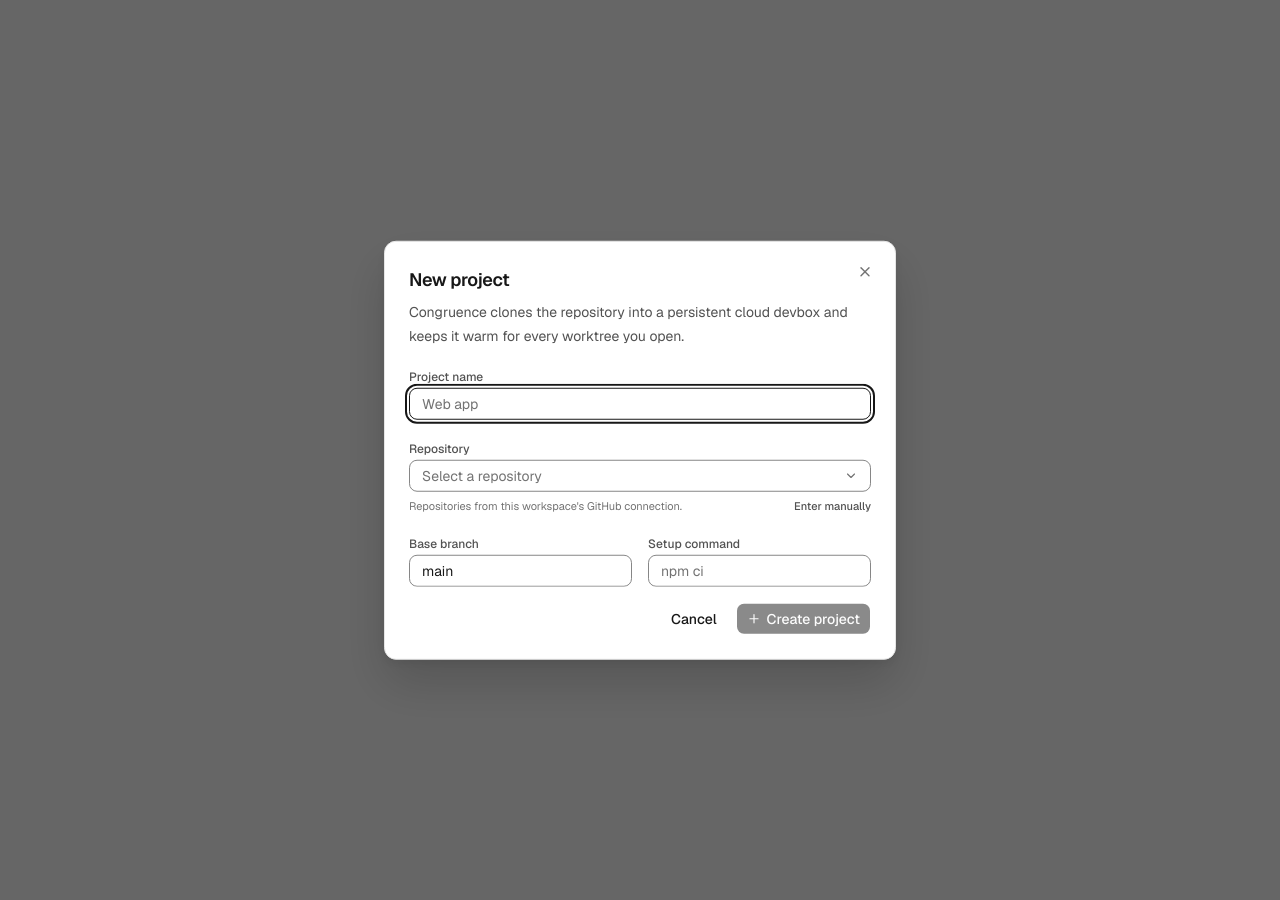
New project dialog › lists the connected GitHub repositories
Click the button "Select a repository" at (482, 476), box [409,460,871,492]
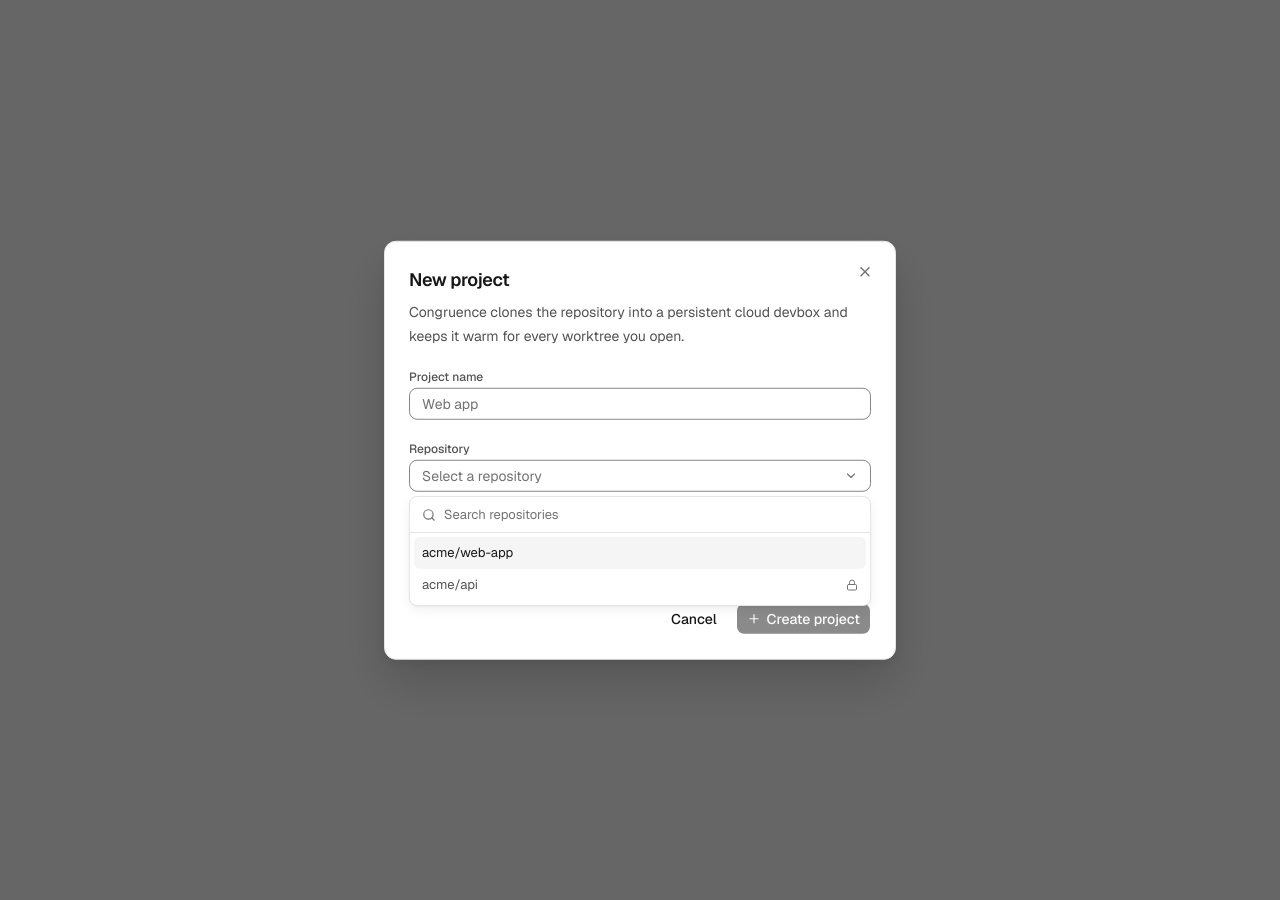
Expected: the option "acme/web-app" is shown, [414,537,866,569]
Expected: the option with aria-label "acme/api, private" is shown, [422,576,858,593]
